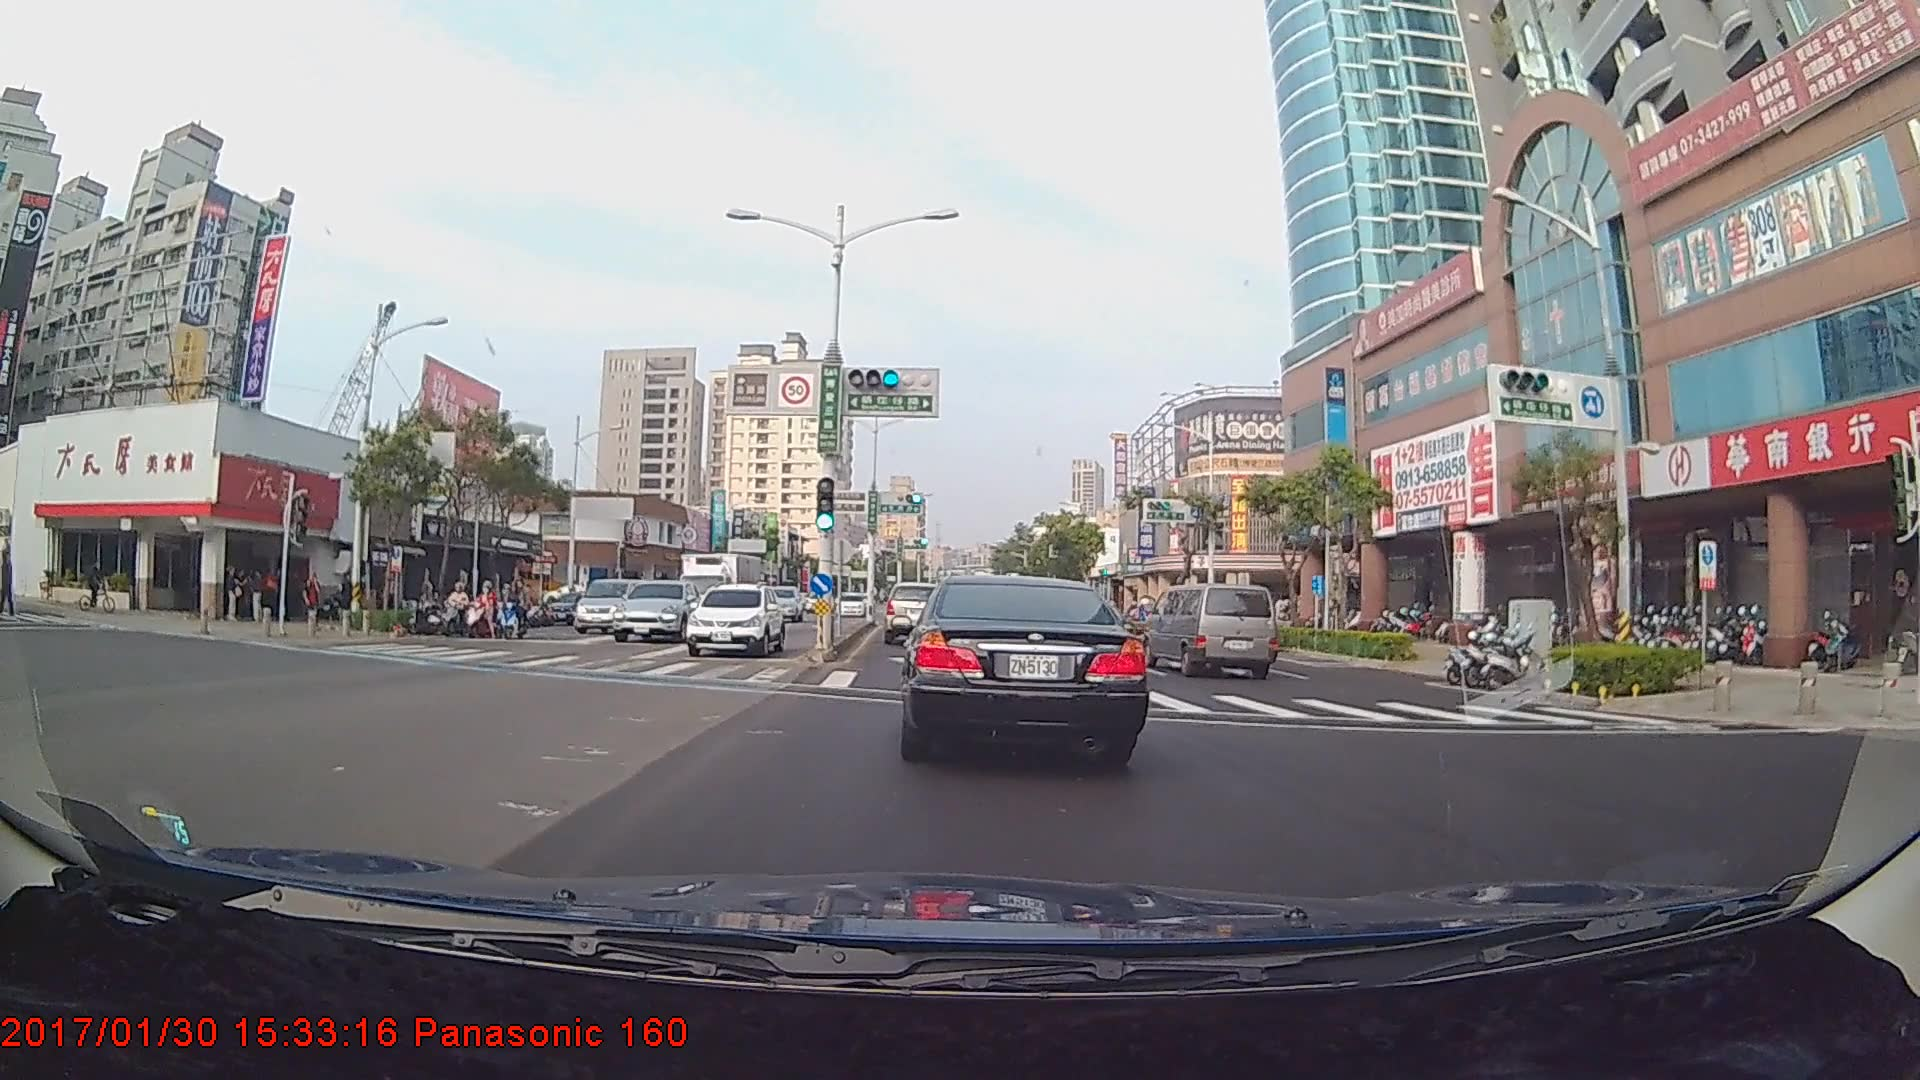pedestrian: (2, 548, 22, 620), (245, 568, 269, 627), (226, 564, 247, 627), (301, 573, 322, 632)
rider: (494, 584, 538, 644), (74, 563, 123, 614), (459, 580, 501, 640), (438, 582, 477, 642)
vehicle: (900, 566, 1141, 765), (1148, 582, 1279, 679), (679, 549, 769, 637), (682, 586, 786, 656), (611, 580, 694, 644), (880, 580, 944, 646), (573, 577, 637, 633), (772, 585, 798, 617), (839, 591, 862, 614)
